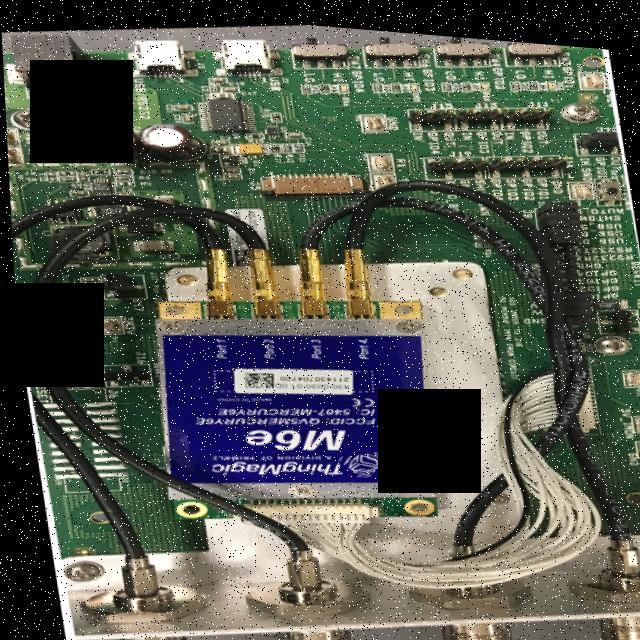-component text- -430-0030-01 0D 211430704700-: (268, 363, 348, 390)
-component text- -FCCID- QV5MERCURY6E IC- 5407-MERCURY6E-: (184, 385, 377, 438)
-component text- -LTBRZ 1F24 e3-: (90, 179, 107, 190)
-component text- -MADE IN CHINA-: (207, 387, 270, 403)
-component text- -Port 1-: (206, 332, 227, 358)
-component text- -Port 2-: (253, 332, 274, 356)
-component text- -Port 3-: (301, 332, 322, 355)
-component text- -Port 4-: (349, 331, 368, 355)
-component text- -ThingMagic A DIVISION OF TRIMBLE M6e-: (198, 411, 349, 485)
-component text- 0: (479, 234, 485, 237)
-component text- 610: (62, 176, 70, 180)
-component text- 810: (294, 140, 301, 145), (282, 140, 289, 145), (302, 80, 307, 86), (513, 73, 518, 79), (375, 78, 380, 83)
-component text- C8K: (435, 36, 455, 46), (508, 34, 525, 43)
-component text- C8k: (365, 37, 382, 47), (292, 40, 310, 49)
-component text- R047: (96, 204, 120, 214)
-component text- R10F: (594, 291, 611, 298)
-electrolytic capacitor- C5: (230, 136, 268, 153)
-electrolytic capacitor- C6: (81, 117, 141, 163)
-electrolytic capacitor- C7: (135, 115, 206, 162)
-test point- TP1: (50, 292, 79, 315)
-test point- TP10: (363, 144, 392, 167)
-test point- TP11: (575, 59, 604, 82)
-test point- TP12: (616, 357, 640, 378)
-test point- TP2: (91, 313, 120, 335)
-test point- TP23: (6, 144, 20, 165)
-test point- TP24: (625, 403, 640, 423)
-test point- TP25: (629, 428, 640, 449)
-test point- TP3: (5, 126, 16, 148)
-test point- TP5: (53, 314, 83, 336)
-test point- TP6: (357, 105, 386, 128)
-test point- TP8: (563, 168, 593, 191)
-test point- TP9: (367, 165, 394, 185)
2080: (112, 171, 132, 180)
2189: (55, 174, 75, 182)
2211: (87, 165, 107, 174)
2222: (74, 170, 86, 182)
2240: (41, 369, 95, 392)
2243: (500, 32, 563, 61)
2244: (430, 28, 492, 62)
2245: (359, 25, 422, 65)
2246: (288, 27, 350, 67)
2249: (128, 156, 138, 161), (601, 78, 606, 84), (235, 149, 242, 153)
2286: (243, 205, 255, 224)
2294: (613, 396, 631, 429)
2309: (504, 286, 521, 340)
2438: (442, 185, 458, 201)
2511: (147, 280, 159, 298)
2584: (493, 287, 514, 371)
2590: (130, 74, 150, 118)
2592: (576, 207, 620, 222)
2593: (577, 214, 622, 230), (578, 223, 623, 238)
2642: (231, 231, 243, 241)
2644: (480, 49, 490, 58), (174, 72, 185, 80), (563, 161, 572, 169), (259, 70, 267, 79), (550, 48, 559, 55), (123, 379, 135, 384), (339, 54, 347, 61), (410, 52, 417, 59), (264, 165, 271, 172), (566, 314, 576, 318), (588, 353, 594, 356)
2693: (47, 477, 56, 485)
2700: (88, 388, 98, 393)
2701: (114, 474, 125, 481)
2739: (227, 206, 239, 214)
2742: (118, 312, 133, 332)
2762: (38, 297, 49, 309)
2830: (586, 194, 623, 206)
2844: (243, 162, 255, 169)
2845: (153, 248, 178, 258)
2856: (57, 282, 67, 292)
2867: (57, 273, 66, 282)
2878: (35, 171, 43, 181)
2900: (136, 165, 155, 172)
2911: (302, 130, 311, 142), (201, 88, 210, 97)
2922: (238, 84, 257, 92)
2944: (226, 76, 244, 83)
2955: (210, 170, 219, 177)
2956: (171, 110, 180, 121)
2967: (163, 100, 172, 110)
2989: (581, 332, 590, 342)
3057: (217, 131, 229, 136)
3153: (203, 149, 211, 156)
3188: (245, 150, 255, 154)
3199: (130, 122, 140, 132)
3232: (116, 184, 130, 190)
3267: (89, 103, 98, 109)
3280: (168, 220, 179, 227)
3302: (626, 248, 640, 276)
3317: (3, 83, 6, 93)
3319: (553, 70, 566, 82)
3320: (479, 82, 491, 93)
3322: (408, 84, 421, 96)
3323: (337, 89, 350, 101)
3438: (455, 170, 469, 176)
3439: (516, 304, 549, 317), (573, 250, 599, 260), (577, 156, 592, 172), (547, 169, 562, 185), (24, 146, 39, 162), (384, 108, 398, 124), (36, 318, 50, 334), (622, 440, 633, 456), (71, 153, 93, 161), (38, 154, 60, 162)
3440: (518, 168, 533, 192)
3441: (584, 280, 617, 291)
3442: (575, 271, 617, 284), (591, 145, 608, 168), (532, 167, 548, 190), (560, 55, 575, 79)
3443: (516, 120, 533, 145), (490, 57, 506, 81)
3444: (573, 264, 617, 277), (473, 122, 490, 146), (501, 169, 518, 193), (420, 60, 435, 84)
3445: (573, 255, 616, 269), (348, 63, 365, 87), (424, 123, 440, 147), (486, 169, 501, 193)
3448: (540, 58, 556, 70), (400, 63, 415, 75), (329, 65, 344, 77), (470, 61, 485, 72)
3480: (501, 122, 515, 132), (408, 124, 422, 134), (576, 146, 590, 156), (459, 123, 472, 133)
3489: (96, 82, 109, 93)
3490: (592, 114, 616, 123)
3491: (525, 89, 549, 99)
3493: (471, 91, 498, 101)
3494: (558, 144, 573, 158)
3495: (427, 92, 453, 103)
3496: (128, 348, 143, 362)
3497: (127, 296, 141, 310), (144, 268, 155, 279)
3498: (633, 321, 640, 335)
3499: (446, 140, 473, 151)
3501: (278, 71, 289, 78), (279, 299, 289, 305)
3510: (194, 58, 205, 66), (326, 298, 338, 304)
3513: (328, 306, 340, 312), (586, 346, 592, 353)
3514: (246, 175, 259, 187), (212, 505, 221, 512)
3515: (102, 386, 115, 397)
3517: (517, 199, 532, 209)
3561: (37, 228, 48, 236)
3563: (197, 80, 209, 88)
3582: (442, 60, 457, 73), (512, 59, 527, 71), (369, 64, 384, 76), (300, 66, 315, 78)
3594: (525, 252, 538, 264)
3634: (533, 119, 548, 135), (606, 144, 621, 159), (488, 121, 502, 137), (441, 123, 455, 138)
3751: (21, 131, 32, 144)
3767: (259, 102, 269, 114)
3778: (294, 147, 305, 158)
3789: (283, 147, 292, 159)
3800: (535, 71, 547, 82)
3811: (519, 72, 528, 82)
3822: (244, 133, 263, 140)
3833: (469, 72, 480, 83)
3844: (271, 148, 280, 159)
3878: (449, 73, 461, 84)
3889: (399, 75, 408, 85)
3900: (382, 75, 389, 87)
3911: (327, 76, 337, 88)
3921: (309, 78, 319, 89)
3932: (633, 286, 640, 298)
3943: (478, 239, 490, 249)
3985: (4, 95, 7, 103)
4046: (135, 172, 149, 178)
4122: (136, 177, 150, 184)
4157: (23, 176, 35, 181)
4168: (20, 169, 34, 175)
4179: (157, 165, 171, 171)
4190: (67, 180, 80, 186)
4204: (27, 377, 44, 403)
4232: (572, 239, 631, 255)
4233: (571, 231, 630, 247)
4236: (392, 149, 407, 161)
4243: (14, 173, 21, 181)
4244: (576, 201, 619, 214)
4245: (471, 170, 485, 186)
4270: (607, 158, 616, 168)
4271: (557, 41, 572, 57)
4272: (488, 43, 502, 59)
4274: (419, 45, 432, 61)
4275: (346, 48, 362, 64)
4284: (393, 169, 408, 175)
4303: (76, 305, 86, 314)
4304: (357, 144, 366, 155)
4305: (573, 51, 584, 62)
4306: (629, 376, 639, 386)
4312: (105, 332, 115, 341)
4318: (81, 325, 89, 335)
4319: (351, 106, 360, 116)
4322: (362, 177, 370, 184)
4341: (249, 155, 258, 162)
4352: (80, 180, 89, 189)
4363: (278, 120, 287, 128)
4367: (229, 128, 239, 136)
4368: (578, 321, 588, 328)
4375: (266, 70, 280, 86)
4392: (47, 123, 75, 133)
4403: (475, 196, 488, 208)
4440: (36, 196, 78, 226)
button SW2: (590, 165, 620, 198)
capacitor C10: (220, 161, 239, 170)
capacitor C100: (128, 234, 172, 252)
capacitor C110: (73, 280, 97, 290)
capacitor C120: (76, 273, 96, 282)
capacitor C140: (65, 187, 87, 196)
capacitor C150: (110, 165, 131, 173)
capacitor C160: (281, 126, 303, 135)
capacitor C170: (218, 81, 239, 90)
capacitor C180: (209, 87, 233, 97)
capacitor C190: (206, 72, 227, 81)
capacitor C20: (219, 168, 241, 177)
capacitor C200: (179, 109, 191, 121)
capacitor C210: (171, 99, 192, 109)
capacitor C230: (575, 333, 582, 342)
capacitor C30: (208, 135, 228, 144)
capacitor C40: (208, 141, 231, 151)
capacitor C80: (151, 190, 174, 214)
capacitor C90: (112, 188, 131, 196)
connector -Port 2-: (63, 563, 213, 640)
connector -Port 3-: (231, 556, 378, 640)
connector -Port 4-: (395, 549, 542, 640)
connector -X_MAX-: (551, 543, 640, 640)
connector J10: (1, 24, 115, 116), (194, 242, 236, 318)
connector J12: (497, 94, 552, 124)
connector J14: (452, 96, 501, 126)
connector J15: (482, 140, 562, 175)
connector J16: (404, 97, 455, 127)
connector J17: (94, 359, 145, 389)
connector J19: (591, 297, 638, 326)
connector J199: (419, 144, 484, 176)
connector J20: (209, 29, 282, 76), (237, 241, 281, 317)
connector J22: (98, 285, 143, 301)
connector J30: (123, 31, 198, 79), (287, 240, 333, 316)
connector J5: (331, 240, 375, 315), (559, 346, 594, 427)
connector J6: (232, 481, 379, 531), (254, 158, 364, 199)
connector J9: (545, 232, 582, 284)
connector JN: (37, 129, 88, 158)
diode D10: (62, 105, 109, 127)
diode D21: (114, 214, 162, 235)
ic U1: (216, 148, 245, 165)
ic U2: (87, 175, 111, 195)
ic U3: (262, 118, 278, 134)
ic U4: (194, 90, 255, 133)
ic U5: (563, 323, 578, 331)
ic UNKNOWN: (135, 292, 447, 515)
inductor L10: (47, 218, 116, 265)
inductor L3 -3R3 X4-: (207, 78, 219, 90)
jumper J10: (572, 118, 623, 147)
jumper J17: (97, 269, 143, 292)
jumper J8: (531, 188, 577, 207), (532, 197, 578, 216), (534, 204, 580, 223), (534, 213, 580, 232), (537, 220, 582, 239), (558, 302, 593, 316), (559, 295, 589, 308), (558, 279, 586, 292), (558, 287, 587, 299)
led DS2: (544, 70, 556, 82)
led DS3: (476, 72, 490, 84)
led DS5: (405, 74, 419, 86)
led DS6: (335, 76, 349, 88)
pads C13: (43, 170, 54, 182)
pads J6: (35, 382, 125, 496)
pads R5: (111, 177, 133, 186)
pads R7: (54, 168, 75, 177)
resistor R10: (84, 200, 134, 219)
resistor R100: (267, 106, 281, 118)
resistor R110: (290, 137, 304, 148)
resistor R120: (278, 137, 291, 149)
resistor R130: (526, 71, 538, 82)
resistor R140: (507, 71, 521, 83)
resistor R150: (243, 127, 263, 137)
resistor R160: (459, 73, 471, 85)
resistor R170: (266, 138, 279, 150)
resistor R200: (439, 73, 452, 85)
resistor R210: (389, 75, 400, 86)
resistor R220: (371, 76, 382, 87)
resistor R230: (317, 77, 329, 89)
resistor R240: (298, 77, 311, 89)
resistor R250: (587, 285, 625, 303)
resistor R260: (471, 231, 491, 240)
resistor R270: (470, 224, 491, 233)
